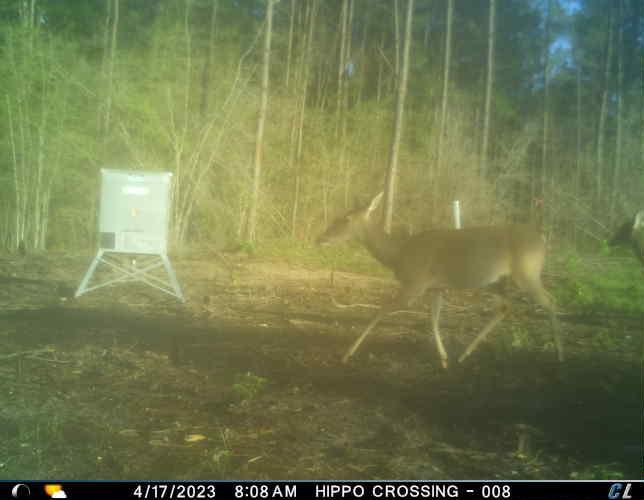Deer: (314, 190, 567, 373), (605, 208, 644, 266)
